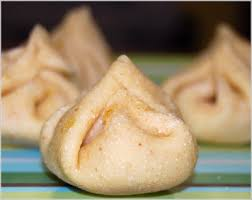modak: (41, 53, 195, 193)
